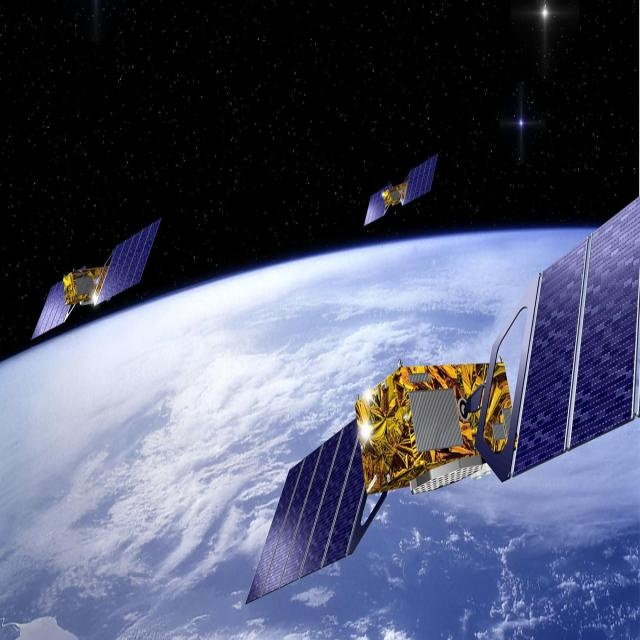medium_debris: (240, 206, 640, 614), (27, 208, 175, 348), (364, 168, 444, 222)
